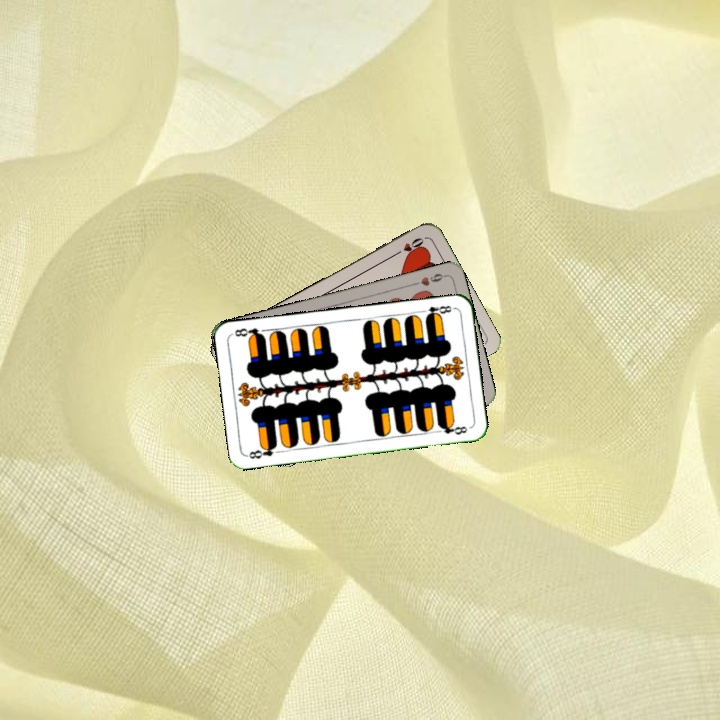E8: (416, 301, 457, 321), (244, 441, 280, 461)
H9: (408, 269, 448, 289)
HO: (390, 233, 426, 259)
